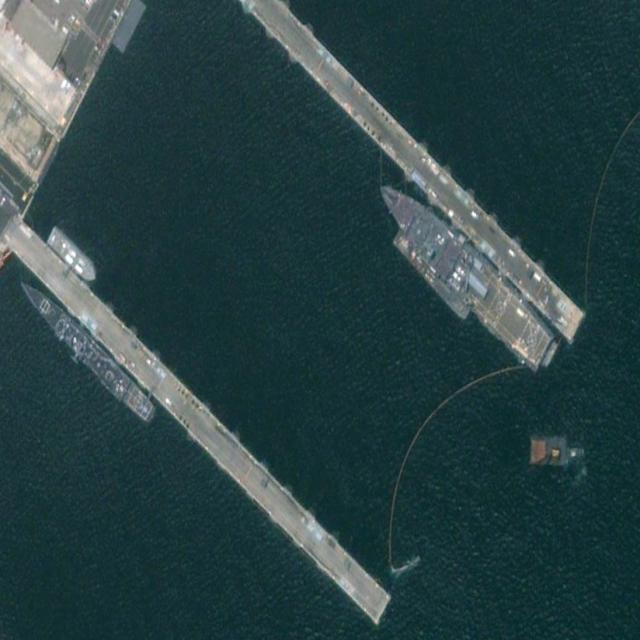Frigate: (13, 269, 158, 431)
Landing: (367, 167, 564, 380)
Other Ship: (47, 223, 102, 289)
